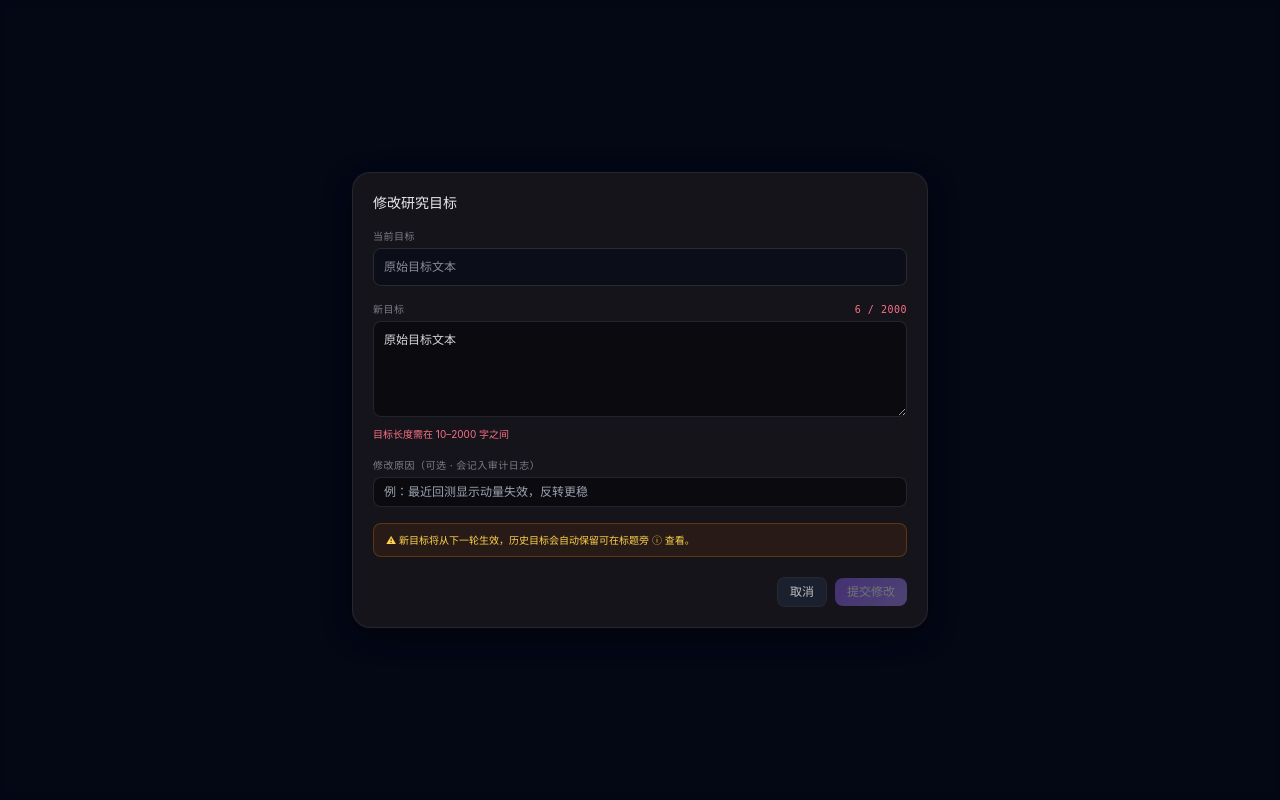
Test: EditObjectiveDialog › surfaces API errors and keeps the dialog open
Replace the text in the text box with placeholder "例：低估值反转因子选股 + 限制 top_n ≤ 30" with "新的研究方向，反转因子选股" at (640, 369), box [373,321,907,417]
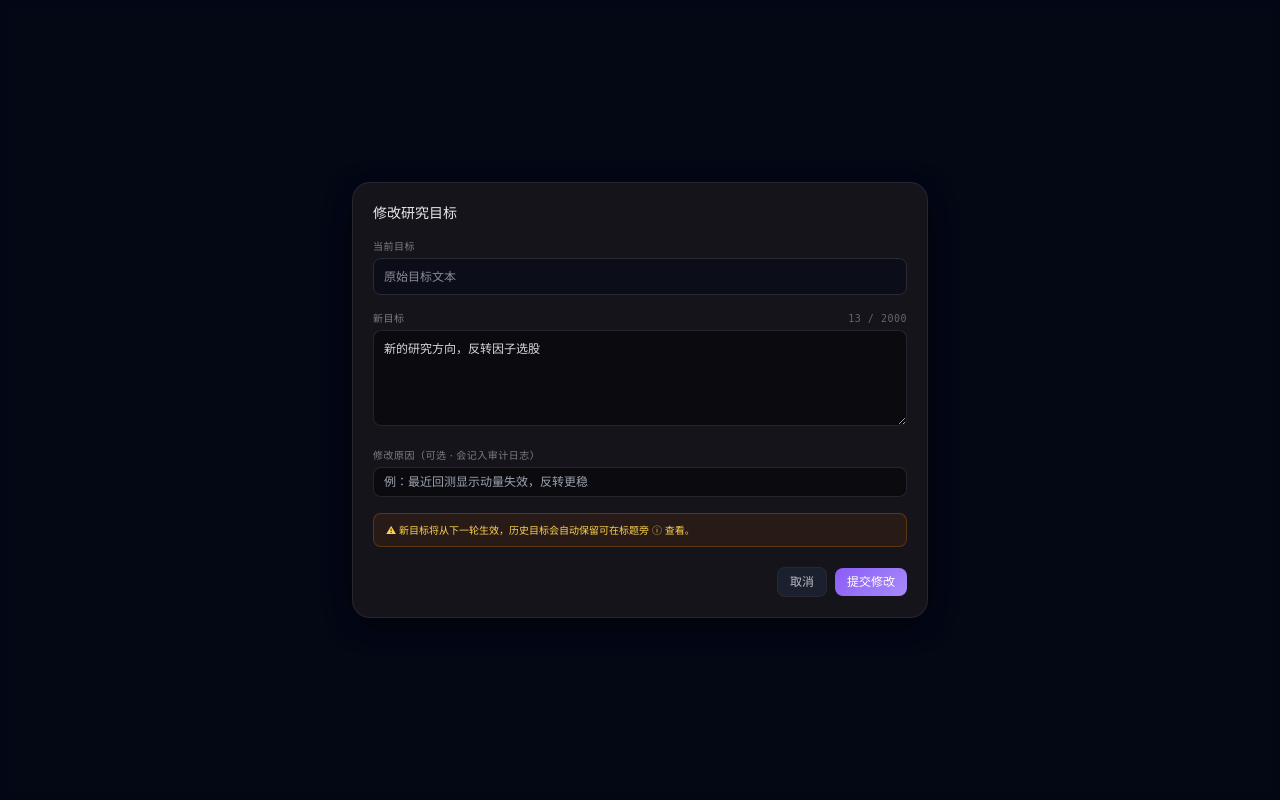
Click the button "提交修改" at (871, 582), box [835,568,907,596]
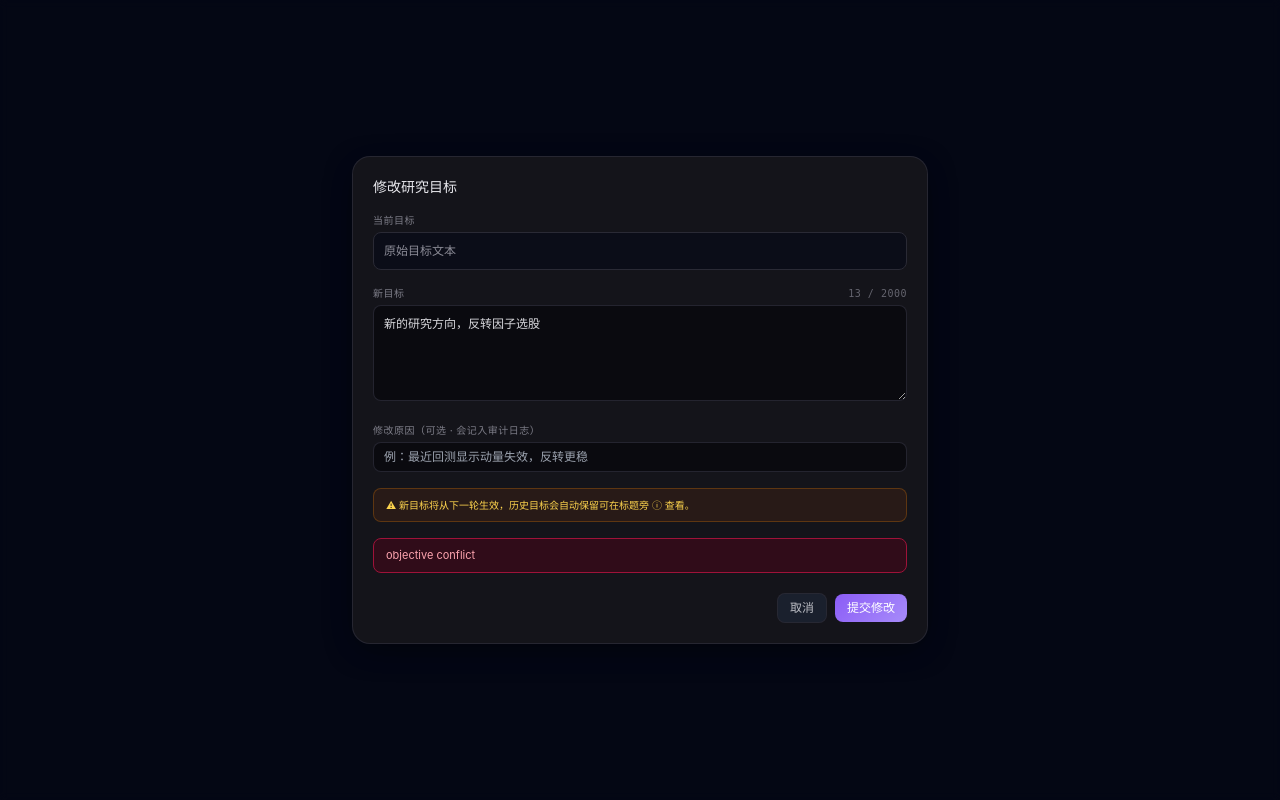
Check: the text "objective conflict" is shown, box [373,538,907,573]
